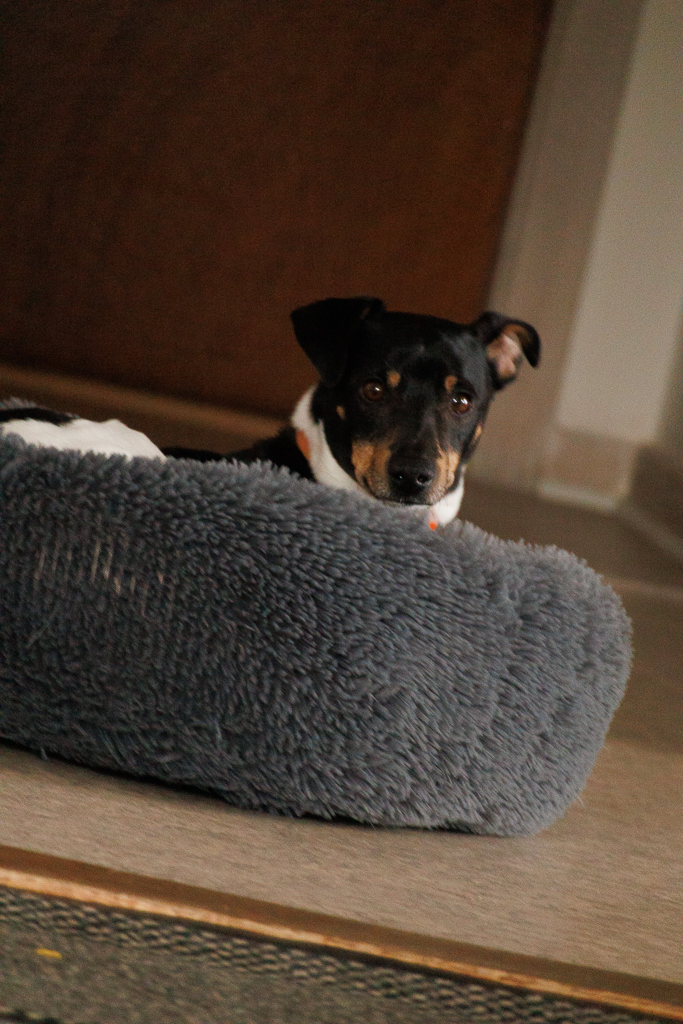Dog: (0, 280, 558, 541)
